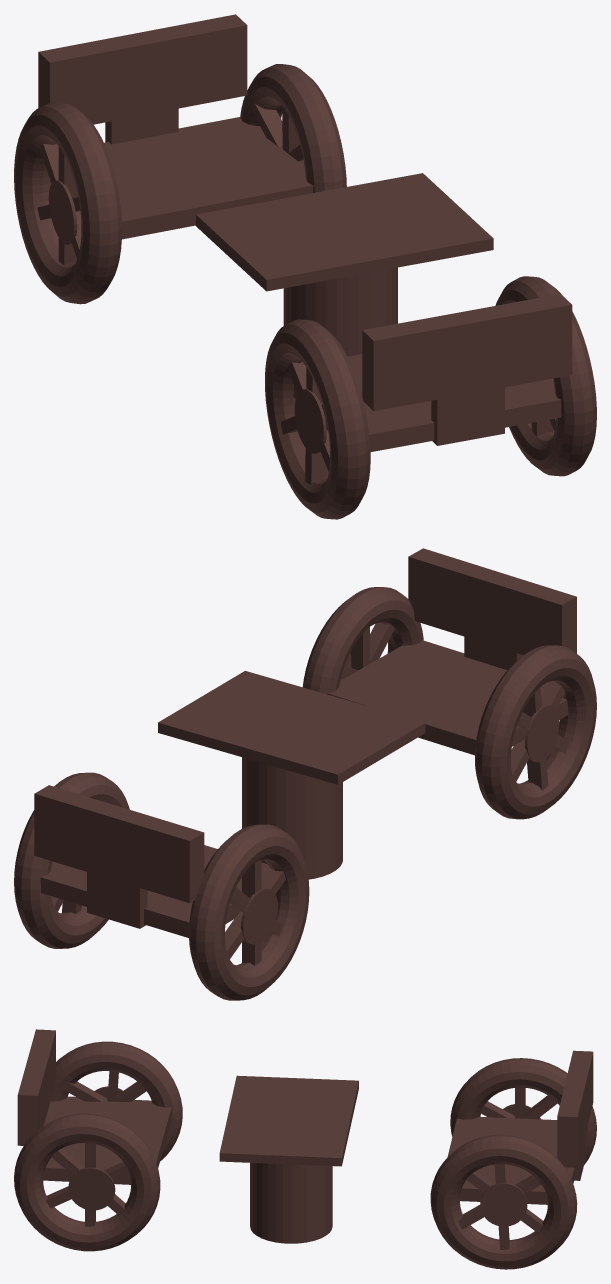
The model's file is bsed chaird.glb.
The picture shows the model from 3 angles, top to bottom: view 1: azimuth 30°, elevation 25°; view 2: azimuth 150°, elevation 25°; view 3: azimuth 270°, elevation 25°; orthographic projection. The views are drawn at different scales.
Parts seen in each view (by area): view 1: Cube.009, Torus.001, Cube.018, Cylinder.004; view 2: Torus.001, Cube.009, Cube.018, Cylinder.004; view 3: Torus.001, Cube.009, Cube.018, Cylinder.004.
Part boxes in pixels (<box>): Cube.009: <box>14,14,346,304</box>; Torus.001: <box>265,276,596,519</box>; Cube.018: <box>195,173,493,291</box>; Cylinder.004: <box>283,267,397,356</box>; Torus.001: <box>302,548,596,819</box>; Cube.009: <box>14,772,309,1000</box>; Cube.018: <box>158,671,425,784</box>; Cylinder.004: <box>242,757,342,879</box>; Torus.001: <box>14,1029,182,1251</box>; Cube.009: <box>430,1050,596,1269</box>; Cube.018: <box>219,1075,358,1166</box>; Cylinder.004: <box>250,1163,332,1243</box>.
Size of the model in its own units: 4.23 by 2.87 by 9.88.
